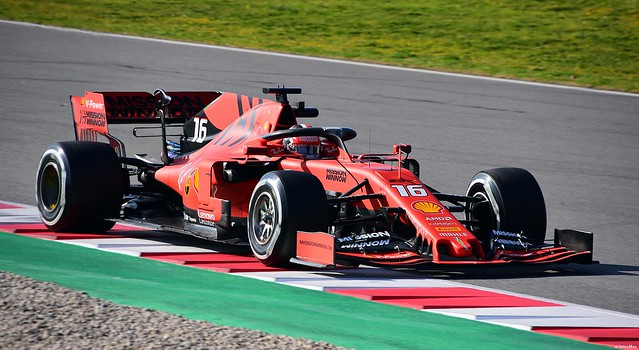F1 Car: (31, 84, 599, 279)
